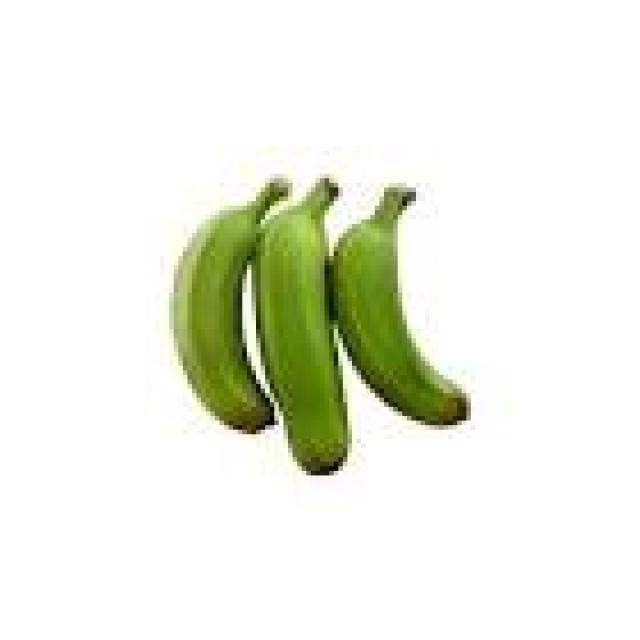banana: (330, 188, 470, 425), (174, 179, 287, 434), (256, 179, 347, 475)
